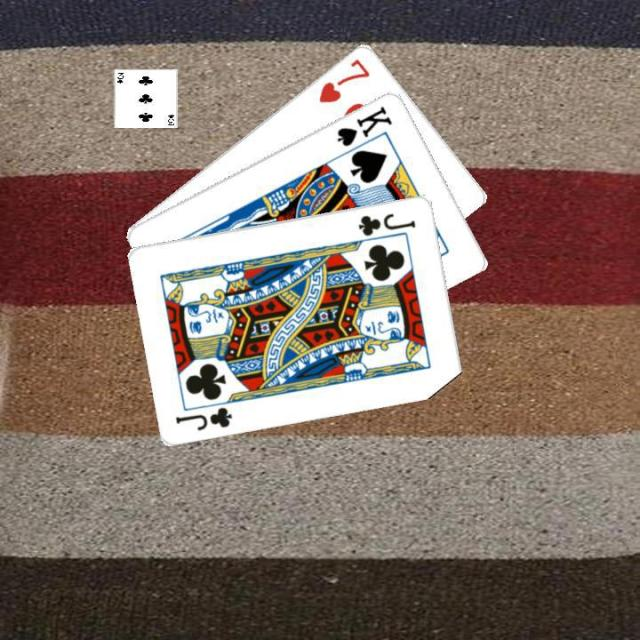7H: (314, 54, 372, 105)
JC: (354, 208, 418, 237), (172, 403, 234, 432)
KS: (332, 102, 394, 148)
